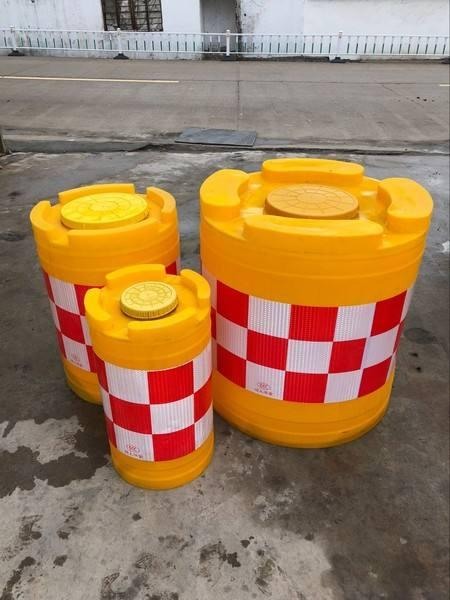sign: (198, 143, 438, 451), (29, 189, 184, 413), (85, 266, 221, 489)
